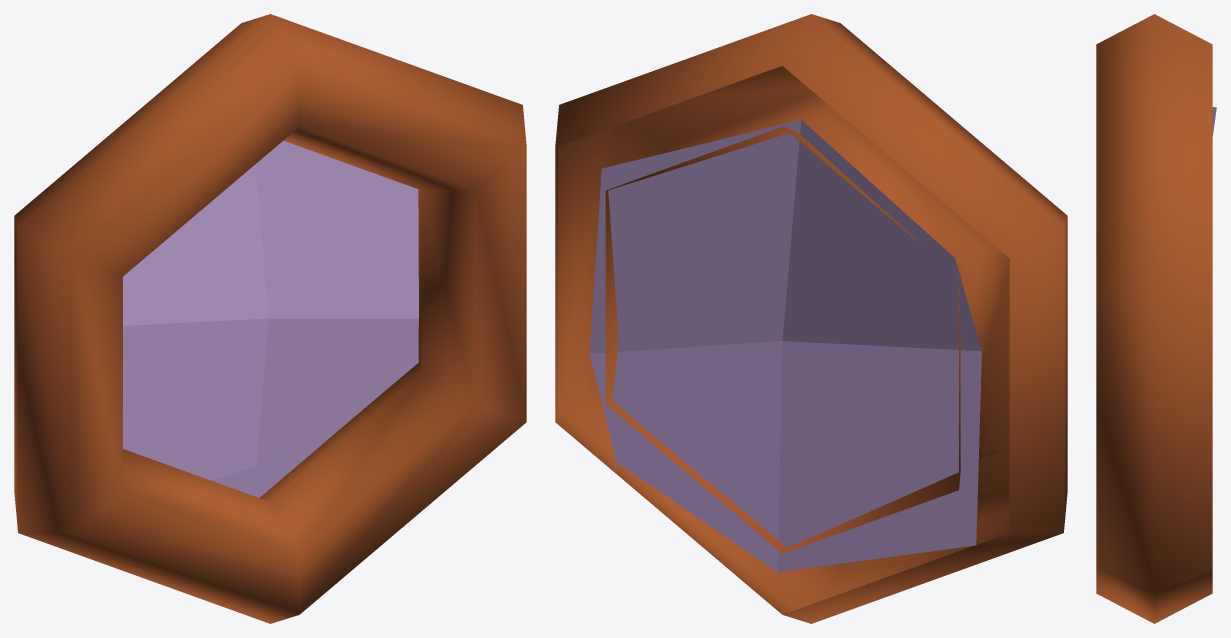
The model's file is props_wall_painting_frame_2.fbx.
3 views of the same model, side by side, from view 1: azimuth 30°, elevation 25°; view 2: azimuth 150°, elevation 25°; view 3: azimuth 270°, elevation 25° (orthographic).
Visible parts, largest first — view 1: Cube.102; view 2: Cube.102; view 3: Cube.102.
Boxes of the visible parts, x1=… form: Cube.102: x1=14, y1=14, x2=526, y2=623; Cube.102: x1=555, y1=14, x2=1067, y2=623; Cube.102: x1=1096, y1=14, x2=1216, y2=623.
Size of the model in its own units: 62.81 by 72.52 by 13.
